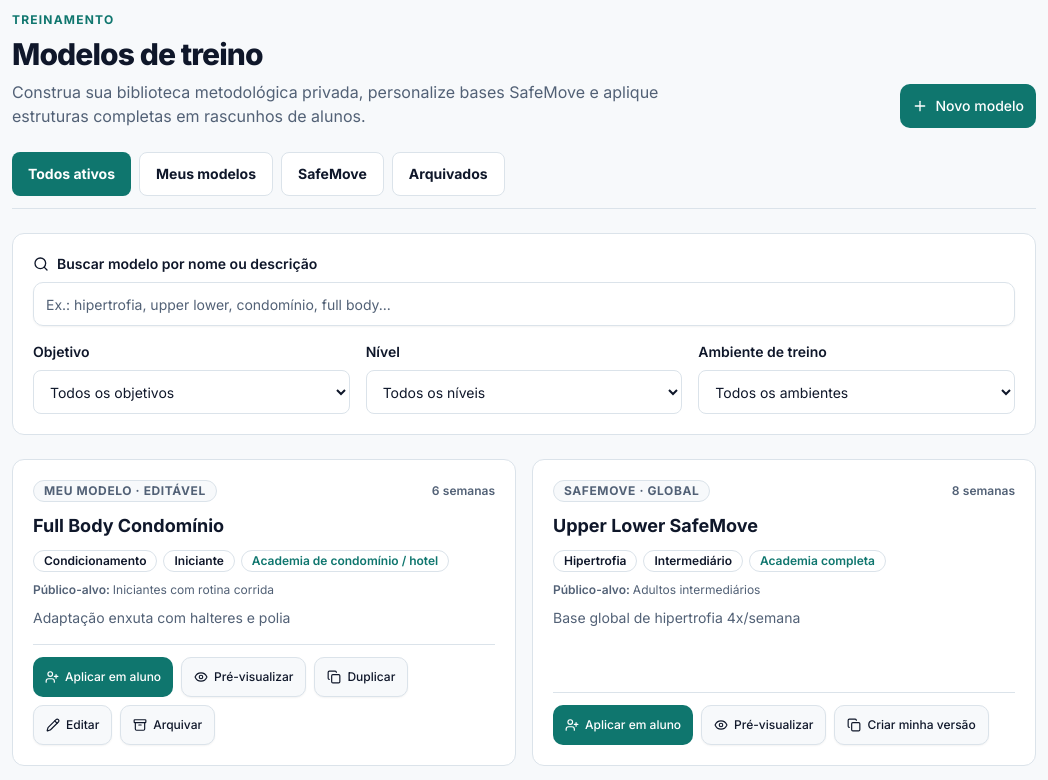
Scenario: WorkoutTemplatesHub › shows optimistic transition while archiving and confirms after API 200 across tabs
This screenshot has width=1048, height=780.
Expected: the heading "Full Body Condomínio" is shown, [33,515,224,536]
Expected: the heading "Upper Lower SafeMove" is shown, [553,515,758,536]
Click the tab "Arquivados".
click(448, 174)  # box [392,152,505,196]
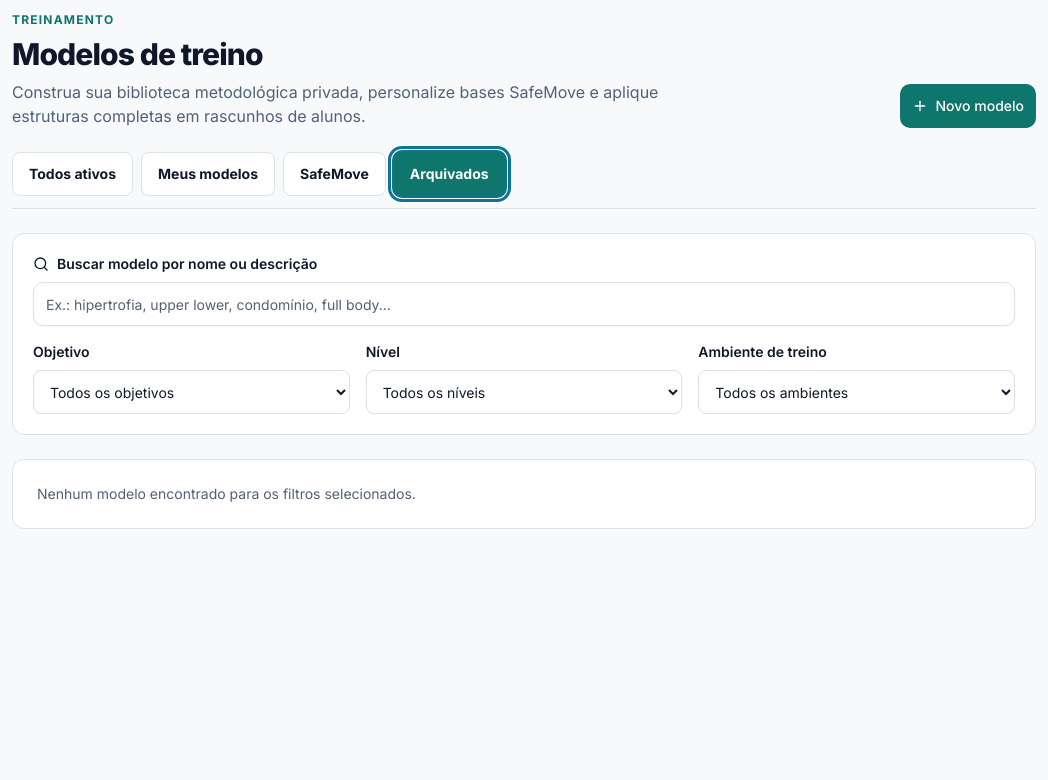
Expected: the text "Nenhum modelo encontrado para os filtros selecionados." is shown, [37,485,416,502]
Click the tab "Todos ativos".
click(72, 174)  # box [12,152,133,196]
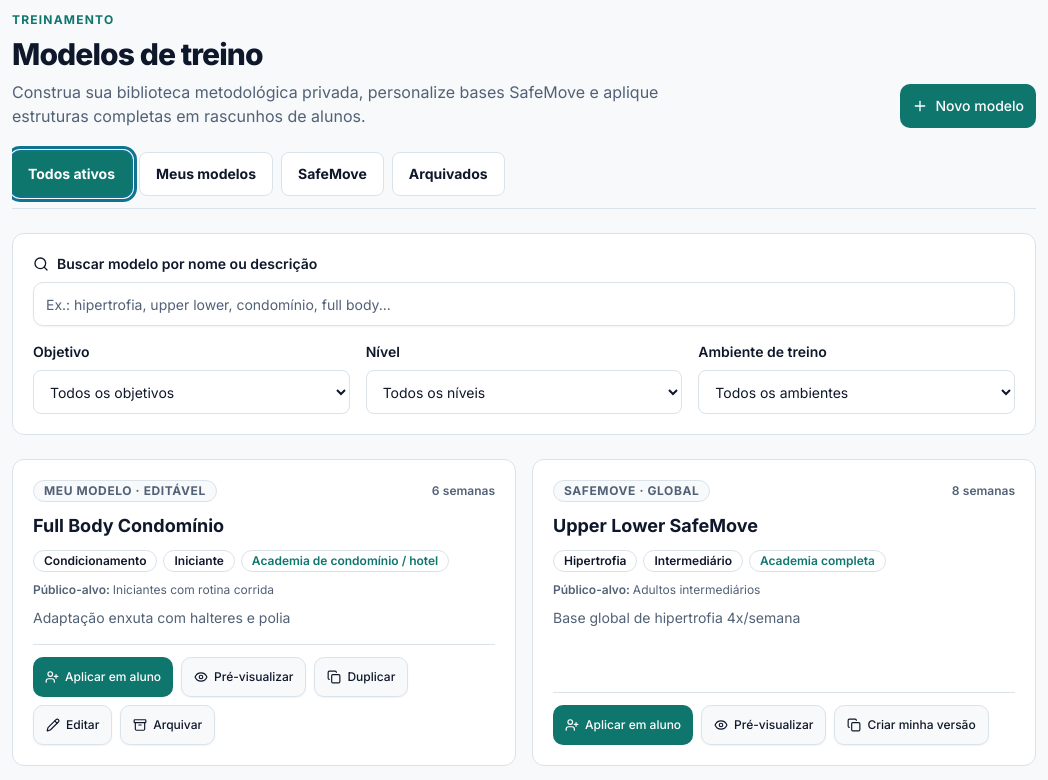
Expected: the heading "Full Body Condomínio" is shown, [33,515,224,536]
Note: Click Arquivar before API responds
Click the button with aria-label "Arquivar Full Body Condomínio".
click(168, 725)  # box [120,705,215,745]
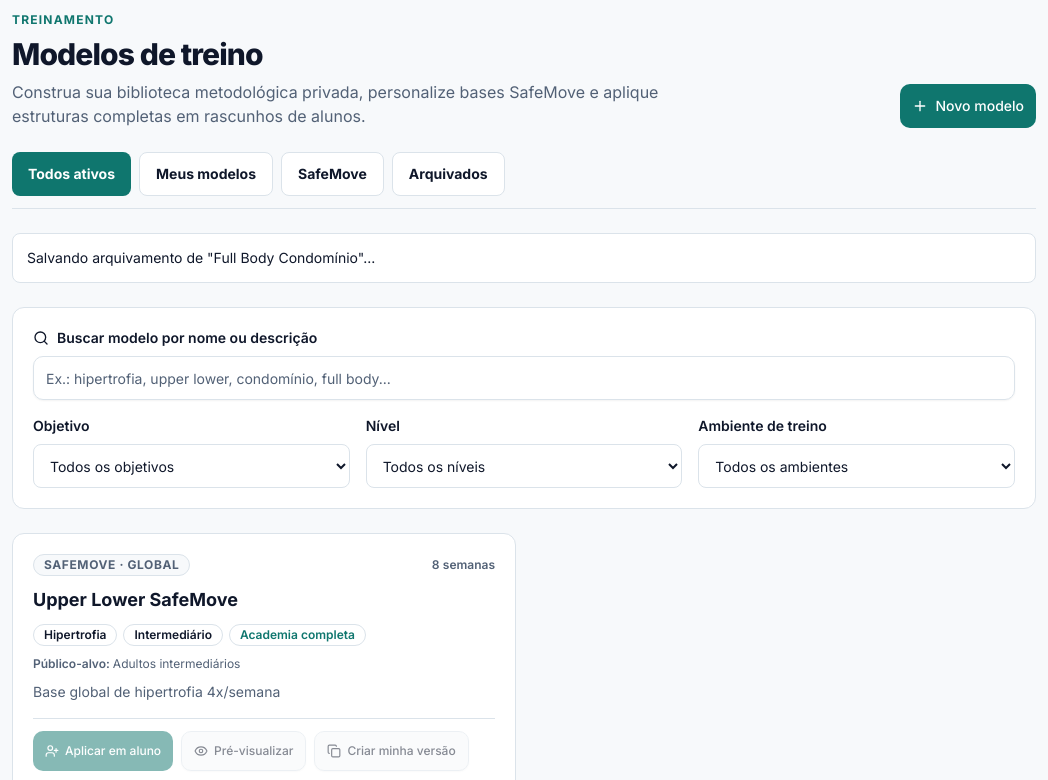
Expected: the heading "Upper Lower SafeMove" is shown, [33,589,238,610]
Expected: the text "Salvando arquivamento de \"Full Body Condomínio\"..." is shown, [27,248,375,268]
Note: Switch to Arquivados tab mid-flight and confirm optimistic entry shows pending indicator
Click the tab "Arquivados".
click(448, 174)  # box [392,152,505,196]
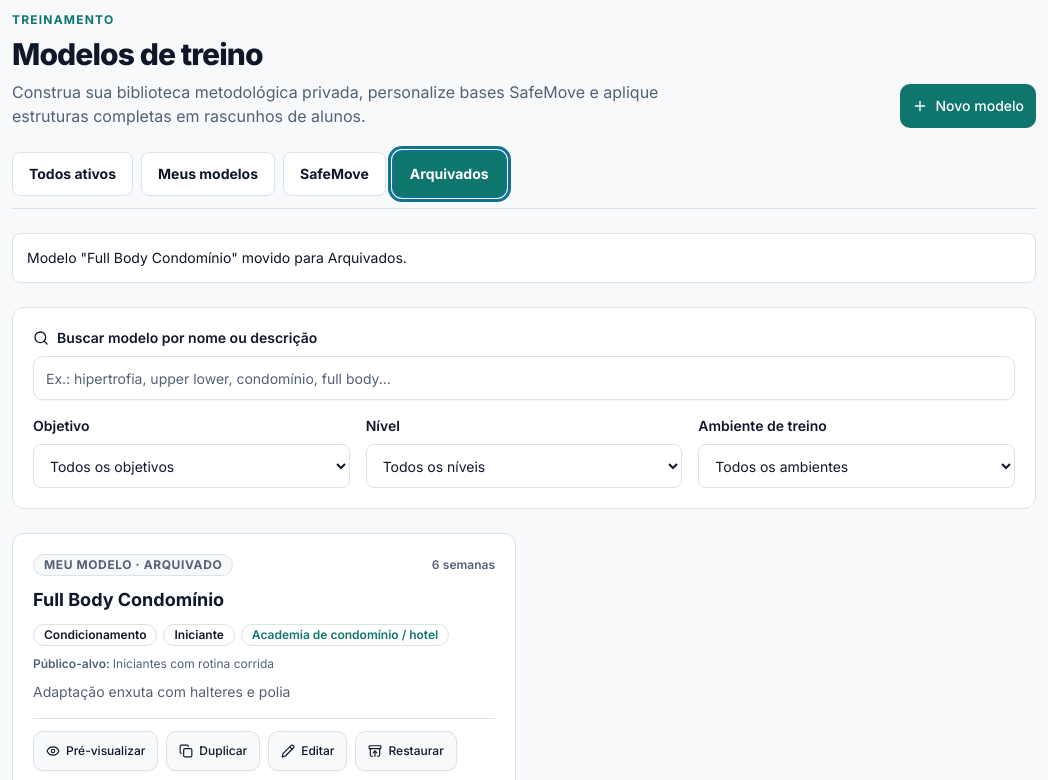
Expected: the heading "Full Body Condomínio" is shown, [33,589,224,610]
Expected: the text "Modelo \"Full Body Condomínio\" movido para Arquivados." is shown, [27,248,407,268]
Expected: the text "Meu modelo · Arquivado" is shown, [33,554,233,576]
